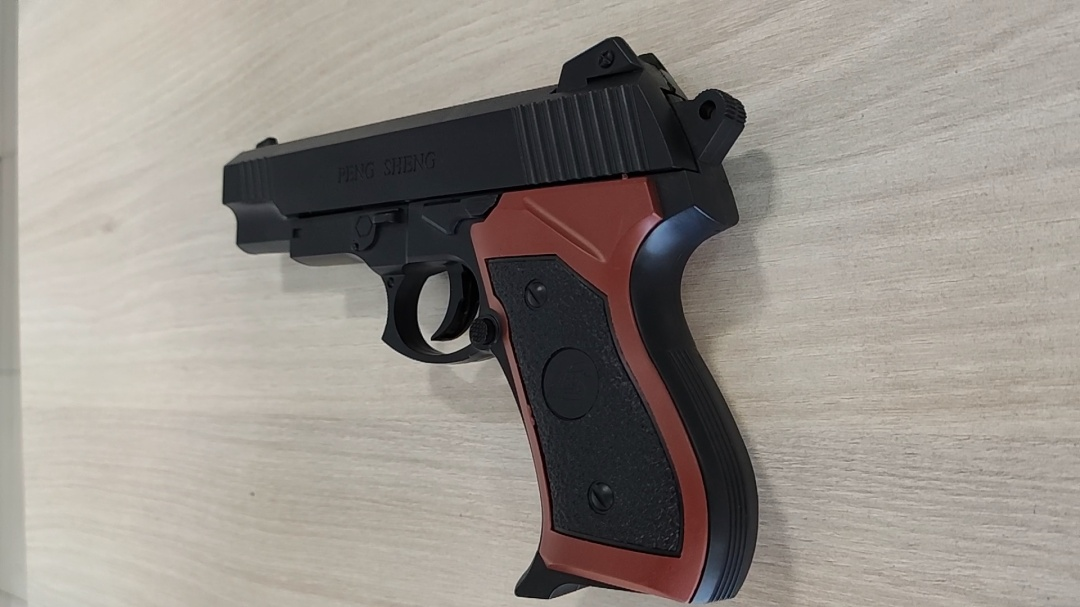gun: (447, 165, 551, 243)
